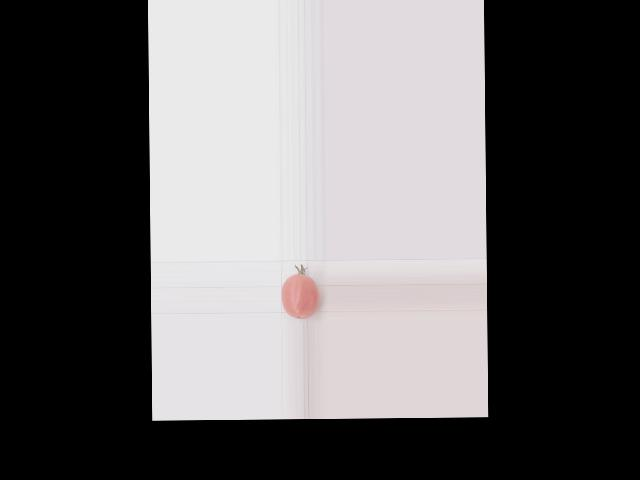tomato: (280, 273, 319, 319)
